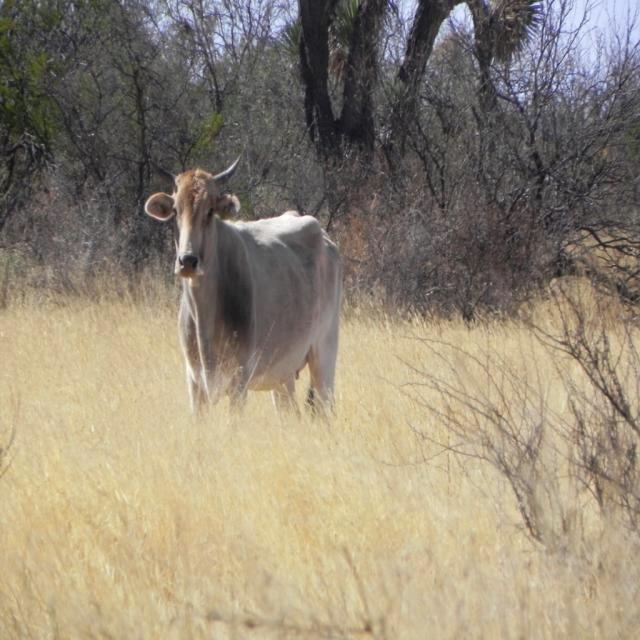cow: (145, 161, 342, 411)
